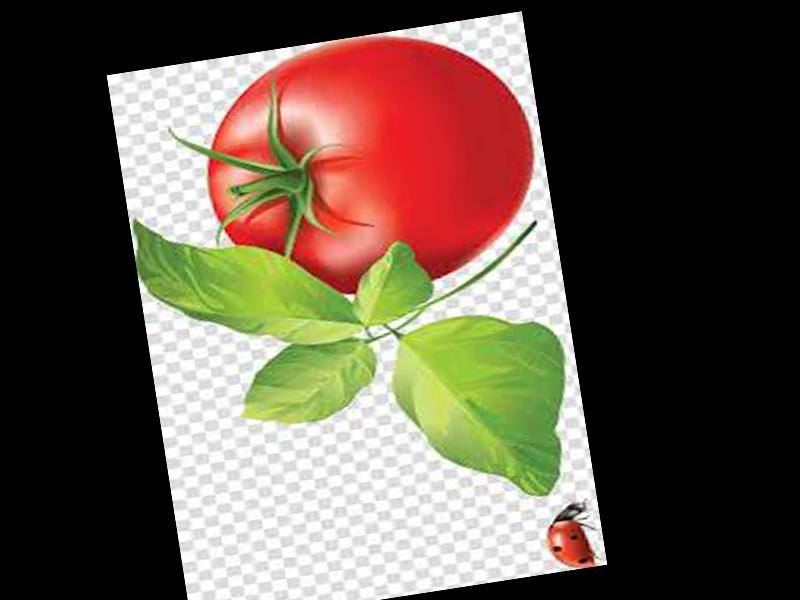Tomato: (189, 14, 550, 313)
